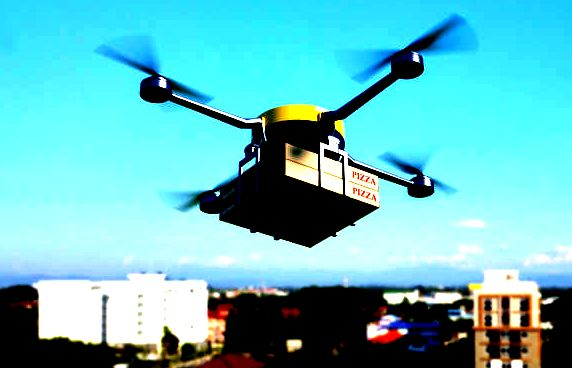Drone: (85, 7, 479, 210)
